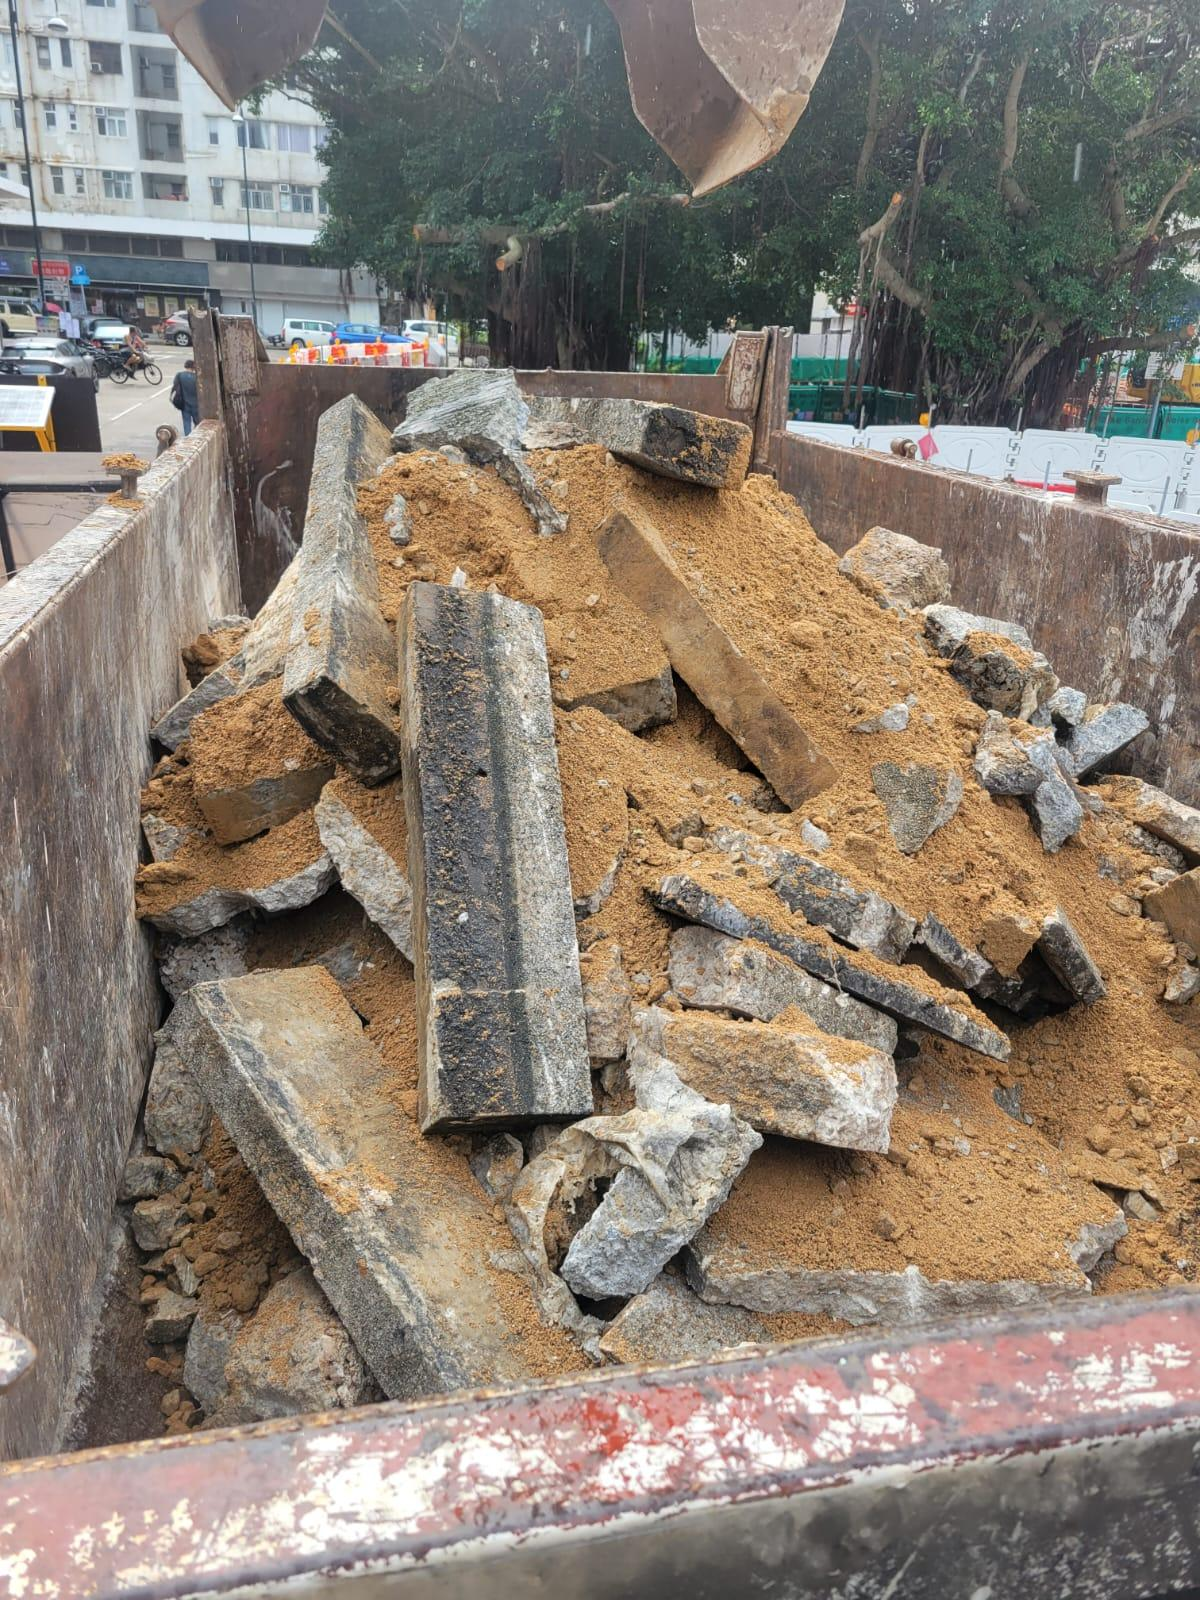dry: (165, 422, 1200, 1387)
